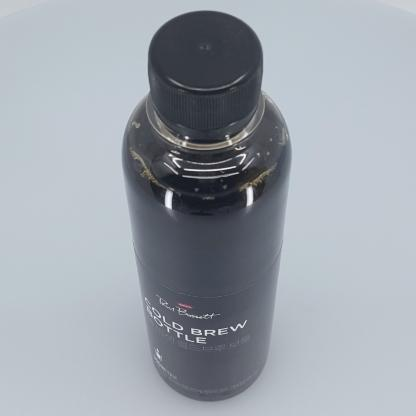--------------300ML: (121, 10, 292, 403)
